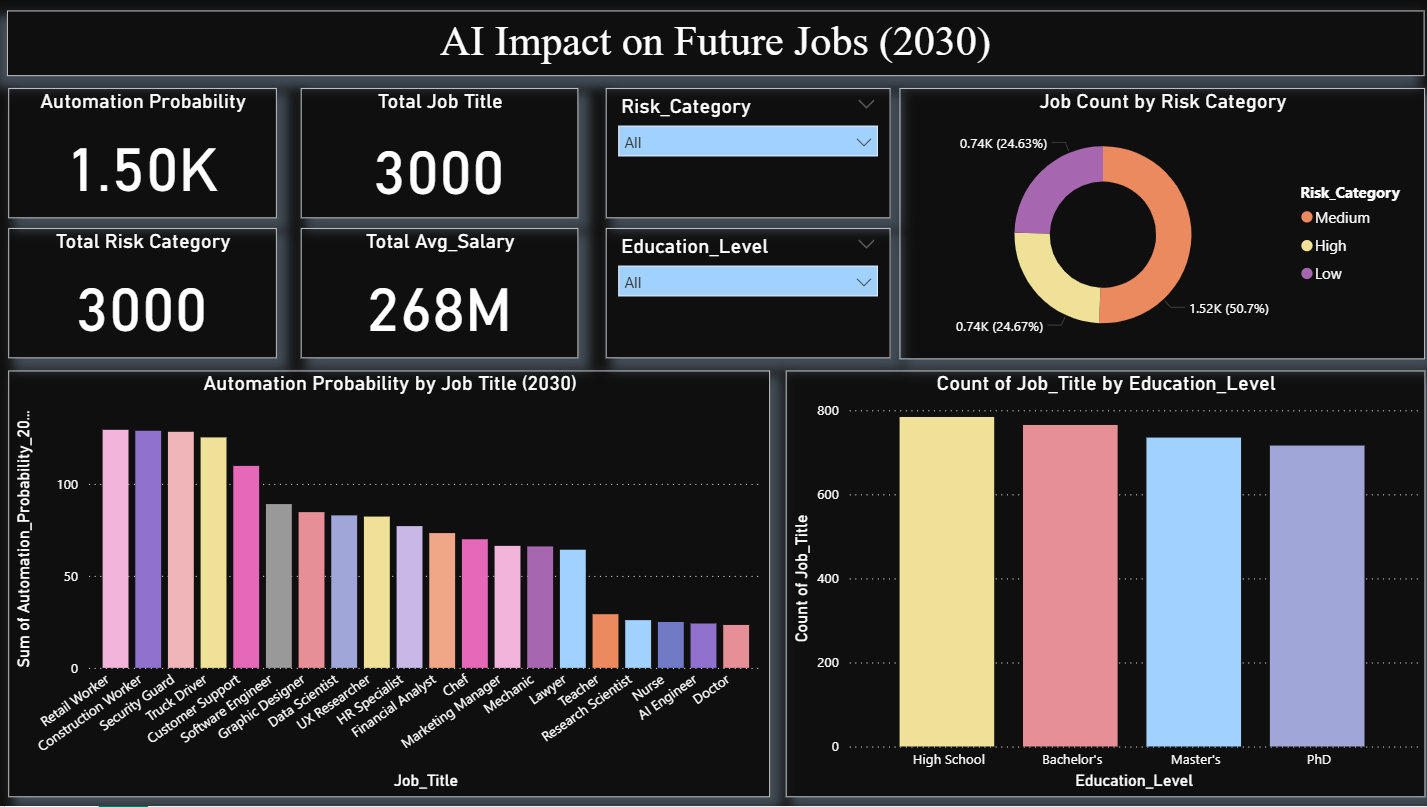

The dashboard page shown, as its layout file describes it:
{"tool":"powerbi","page":{"name":"Page 1","canvas":[1280,720],"ordinal":0},"visuals":[{"type":"card","title":"Total Job Title","fields":{"Values":["CountNonNull(AI_Impact_on_Jobs_2030.Job_Title)"]},"box":[270.2,79.6,247.3,115.8],"z":0},{"type":"card","title":"Automation Probability","fields":{"Values":["Sum(AI_Impact_on_Jobs_2030.Automation_Probability_2030)"]},"box":[9.7,79.6,238.9,115.8],"z":1000},{"type":"card","title":"Total Risk Category","fields":{"Values":["CountNonNull(AI_Impact_on_Jobs_2030.Risk_Category)"]},"box":[9.7,205.1,238.9,115.8],"z":2000},{"type":"card","title":"Total Avg_Salary","fields":{"Values":["Sum(AI_Impact_on_Jobs_2030.Average_Salary)"]},"box":[270.2,205.1,247.3,115.8],"z":3000},{"type":"clusteredColumnChart","title":"Automation Probability by Job Title (2030)","fields":{"Category":["AI_Impact_on_Jobs_2030.Job_Title"],"Y":["Sum(AI_Impact_on_Jobs_2030.Automation_Probability_2030)"]},"box":[9.7,331.8,678,380],"z":4000},{"type":"donutChart","title":"Job Count by Risk Category","fields":{"Y":["CountNonNull(AI_Impact_on_Jobs_2030.Job_Title)"],"Category":["AI_Impact_on_Jobs_2030.Risk_Category"]},"box":[803.5,79.6,468.1,241.3],"z":5000},{"type":"slicer","fields":{"Values":["AI_Impact_on_Jobs_2030.Education_Level"]},"box":[541.7,205.1,253.4,115.8],"z":7000},{"type":"slicer","fields":{"Values":["AI_Impact_on_Jobs_2030.Risk_Category"]},"box":[541.7,79.6,253.4,115.8],"z":8000},{"type":"textbox","box":[9.1,11.7,1262.1,58.3],"z":9000},{"type":"clusteredColumnChart","fields":{"Category":["AI_Impact_on_Jobs_2030.Education_Level"],"Y":["CountNonNull(AI_Impact_on_Jobs_2030.Job_Title)"]},"box":[702.1,331.8,569.4,380],"z":9002}]}

Visuals, with their boxes in screenshot pixels (x1, y1, x2, y2), scaled from the page's 1280x720 canvas onto the 1427x807 screenshot:
"Total Job Title" card: [301, 89, 577, 219]
"Automation Probability" card: [11, 89, 277, 219]
"Total Risk Category" card: [11, 230, 277, 360]
"Total Avg_Salary" card: [301, 230, 577, 360]
"Automation Probability by Job Title (2030)" clusteredColumnChart: [11, 372, 767, 798]
"Job Count by Risk Category" donutChart: [896, 89, 1418, 360]
slicer - AI_Impact_on_Jobs_2030.Education_Level: [604, 230, 886, 360]
slicer - AI_Impact_on_Jobs_2030.Risk_Category: [604, 89, 886, 219]
textbox: [10, 13, 1417, 78]
clusteredColumnChart - AI_Impact_on_Jobs_2030.Education_Level x CountNonNull(AI_Impact_on_Jobs_2030.Job_Title): [783, 372, 1418, 798]
